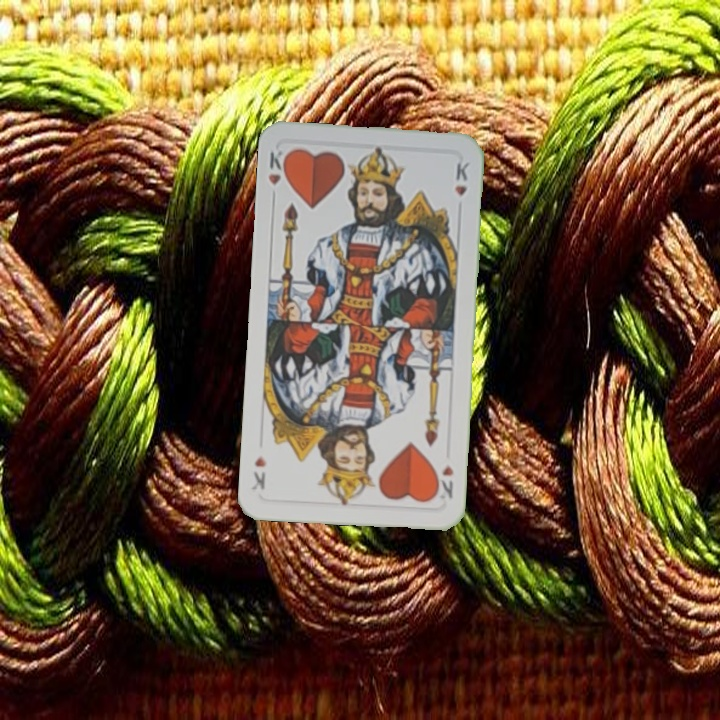HK: (264, 145, 291, 204), (431, 461, 456, 501)
